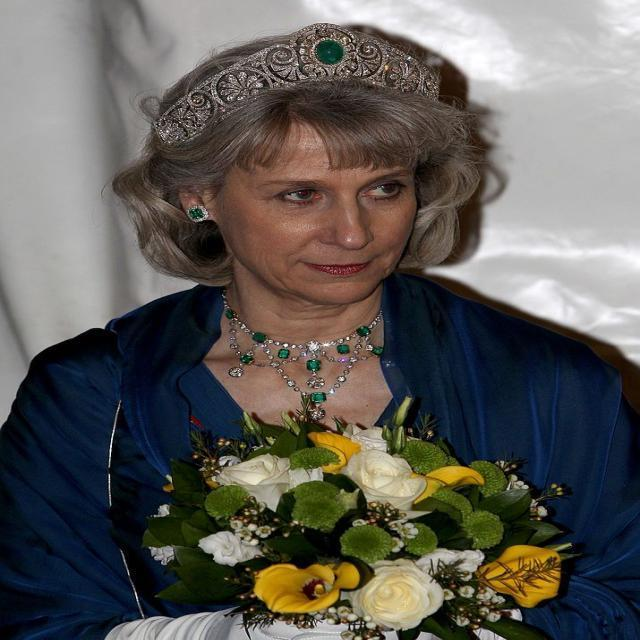Earring: (174, 204, 220, 238)
